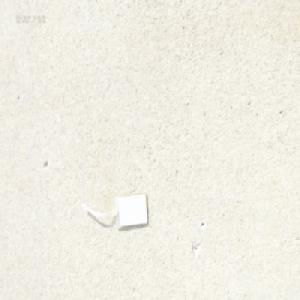LuggageTag: (81, 191, 151, 232)
